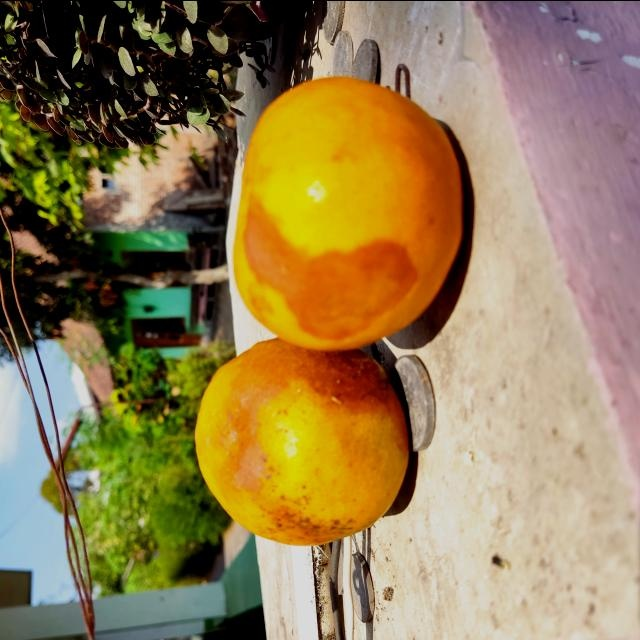agrume: (230, 70, 467, 346), (193, 331, 413, 546)
